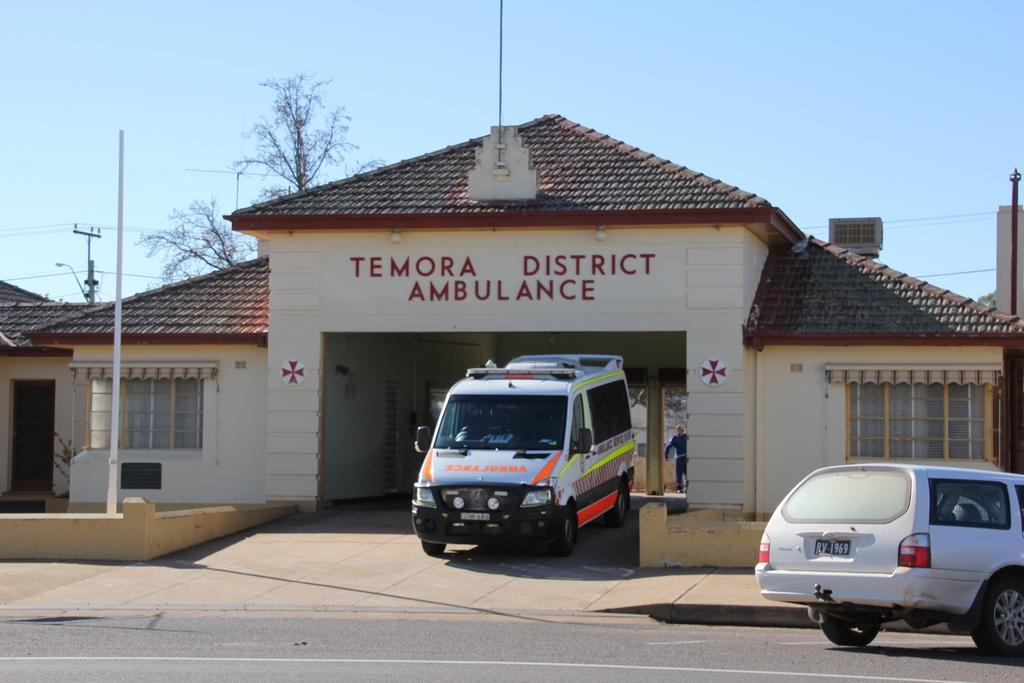Ambulance: (416, 352, 641, 561)
